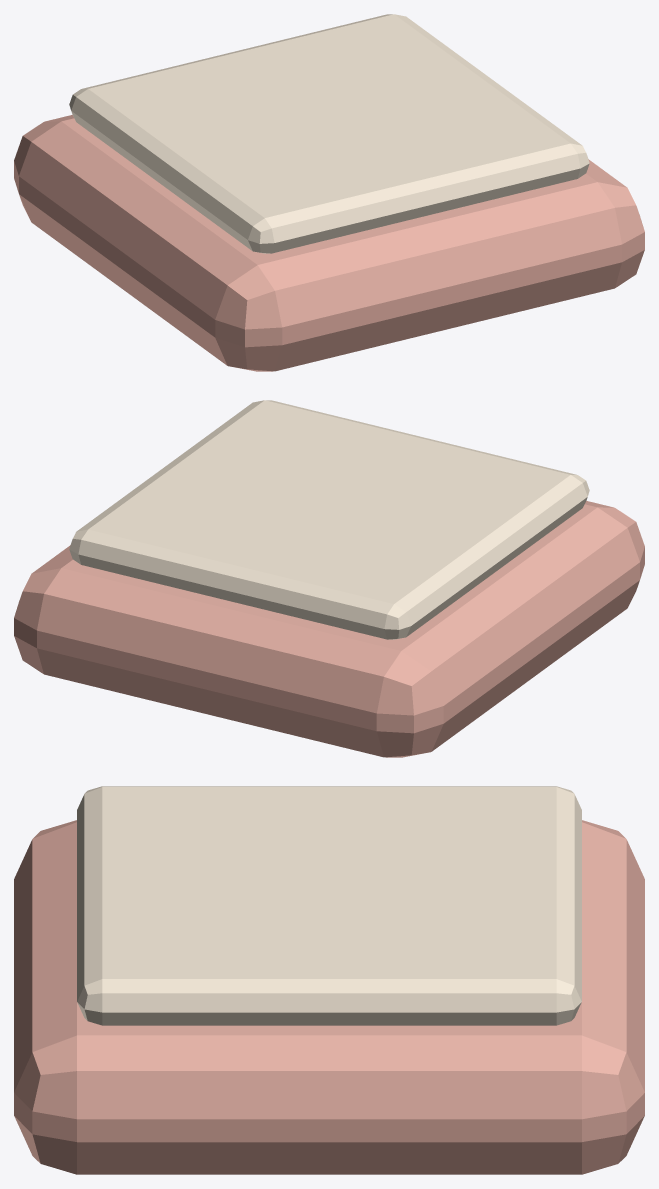
The model's file is cafe_cushion.glb.
The picture shows the model from 3 angles, top to bottom: view 1: azimuth 30°, elevation 25°; view 2: azimuth 150°, elevation 25°; view 3: azimuth 270°, elevation 25°; orthographic projection. The views are drawn at different scales.
Visible parts, largest first — view 1: cafe_cushion; view 2: cafe_cushion; view 3: cafe_cushion.
Boxes of the visible parts, x1,y1,x2,y2 form: cafe_cushion: [14, 14, 644, 371]; cafe_cushion: [14, 400, 644, 757]; cafe_cushion: [14, 786, 644, 1174].
Size of the model in its own units: 0.5 by 0.16 by 0.5.
